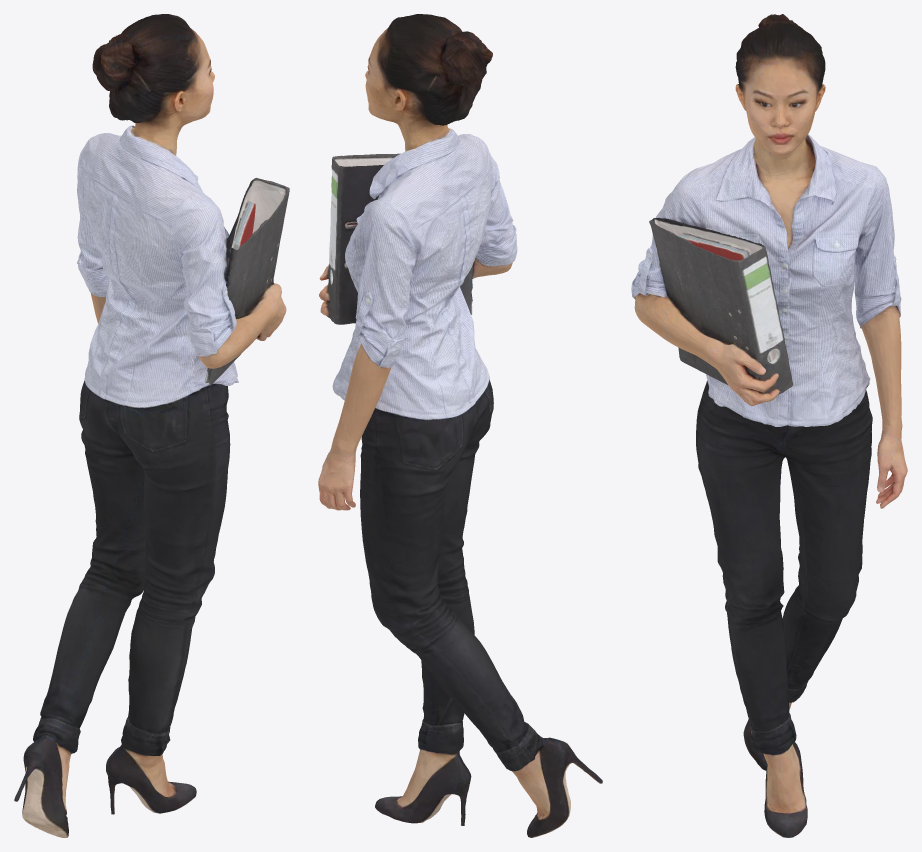
File: pedestrian-woman-walking-folder.glb
3 renders of one model, left to right at view 1: azimuth 30°, elevation 25°; view 2: azimuth 150°, elevation 25°; view 3: azimuth 270°, elevation 25°, orthographic.
Parts seen in each view (by area): view 1: Object_3; view 2: Object_3; view 3: Object_3.
Part boxes in pixels (bbox=[...]): Object_3: bbox=[14, 14, 289, 837]; Object_3: bbox=[318, 14, 602, 837]; Object_3: bbox=[631, 14, 907, 837].
Size of the model in its own units: 61.17 by 170 by 53.64.
1 material, 1 textured.
